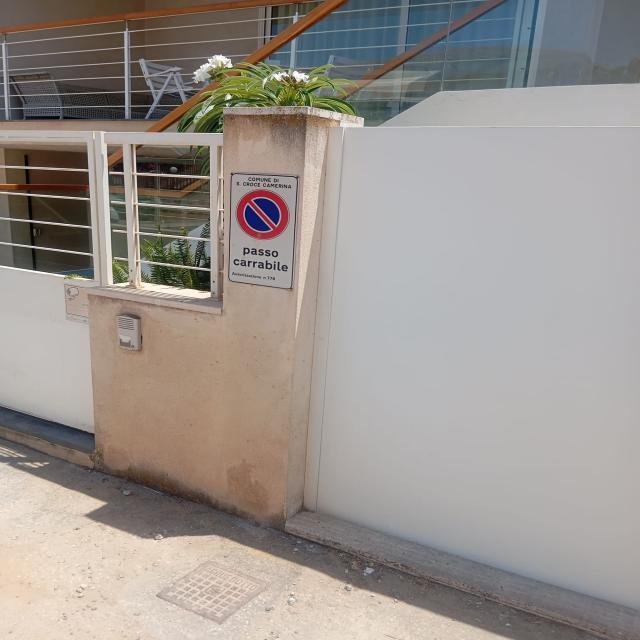forb_stopping: (235, 188, 290, 241)
